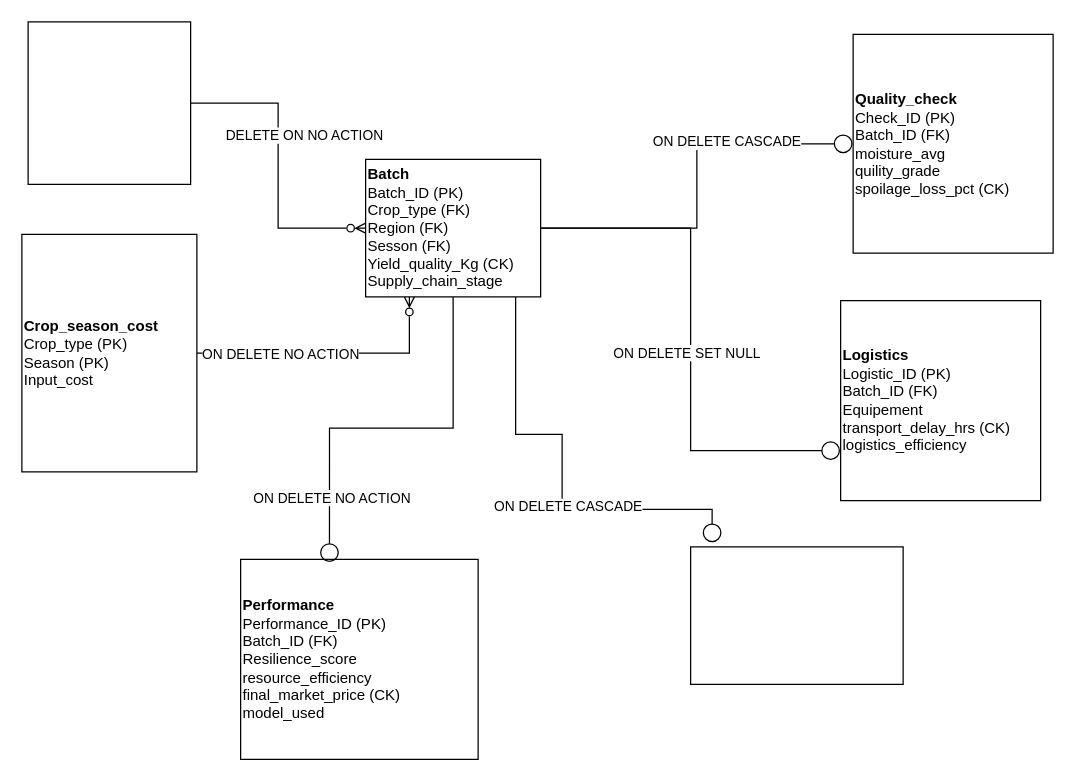
Image size: 1075x781. Some labels were removed from this diagram. Each missing label, with the box of its shape:
Region_Climate Region (PK) temp_avg Climate_risk: (27, 21, 191, 184)
Storage Storage_ID (PK) Batch_ID (FK) Storage_duration_days: (689, 546, 903, 684)
